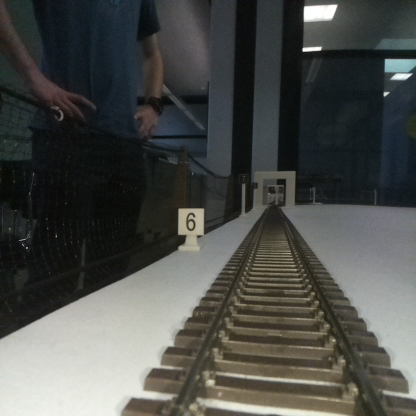black-info-7: (239, 173, 247, 219)
white-stop-6: (178, 209, 203, 249)
